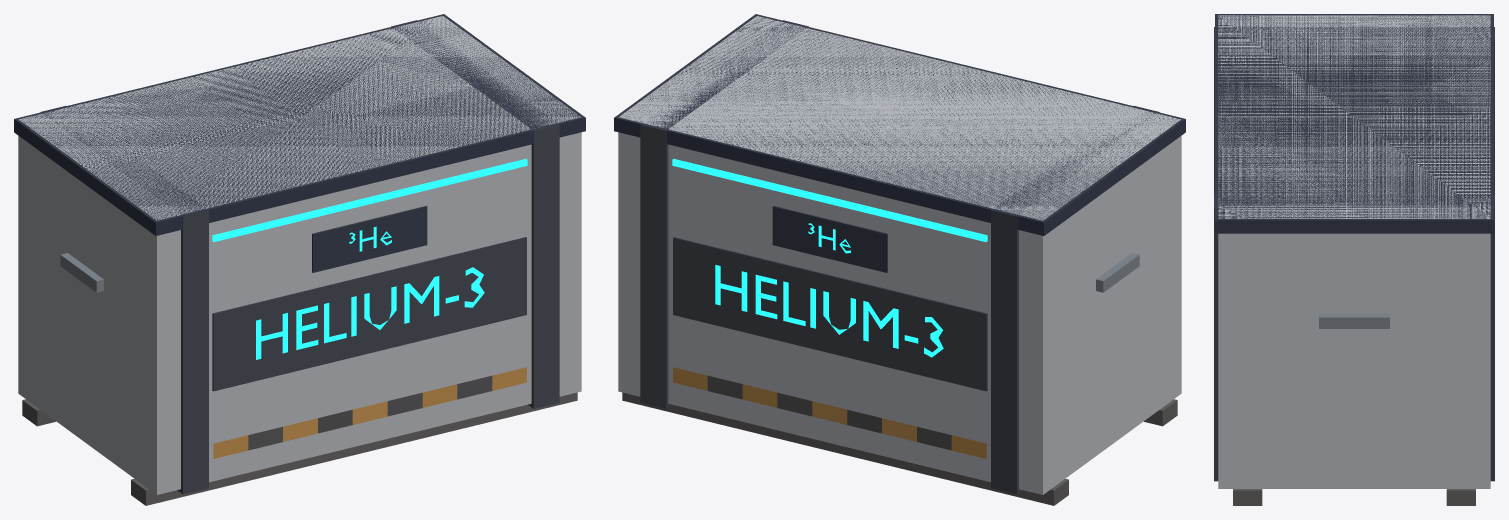
The model's file is cargo_box_game.glb.
The picture shows the model from 3 angles, left to right: view 1: azimuth 30°, elevation 25°; view 2: azimuth 150°, elevation 25°; view 3: azimuth 270°, elevation 25°; orthographic projection.
Parts seen in each view (by area): view 1: CargoBox_Mesh; view 2: CargoBox_Mesh; view 3: CargoBox_Mesh.
Boxes of the visible parts, bbox=[...] form: CargoBox_Mesh: bbox=[14, 14, 585, 505]; CargoBox_Mesh: bbox=[614, 14, 1185, 505]; CargoBox_Mesh: bbox=[1214, 14, 1494, 505].
Size of the model in its own units: 2.4 by 1.5 by 1.34.
